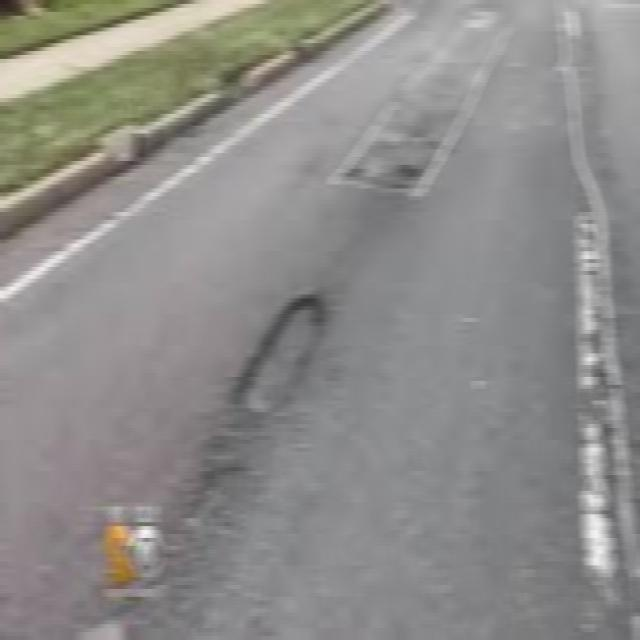Pothole: (224, 285, 334, 419), (342, 141, 442, 206)
